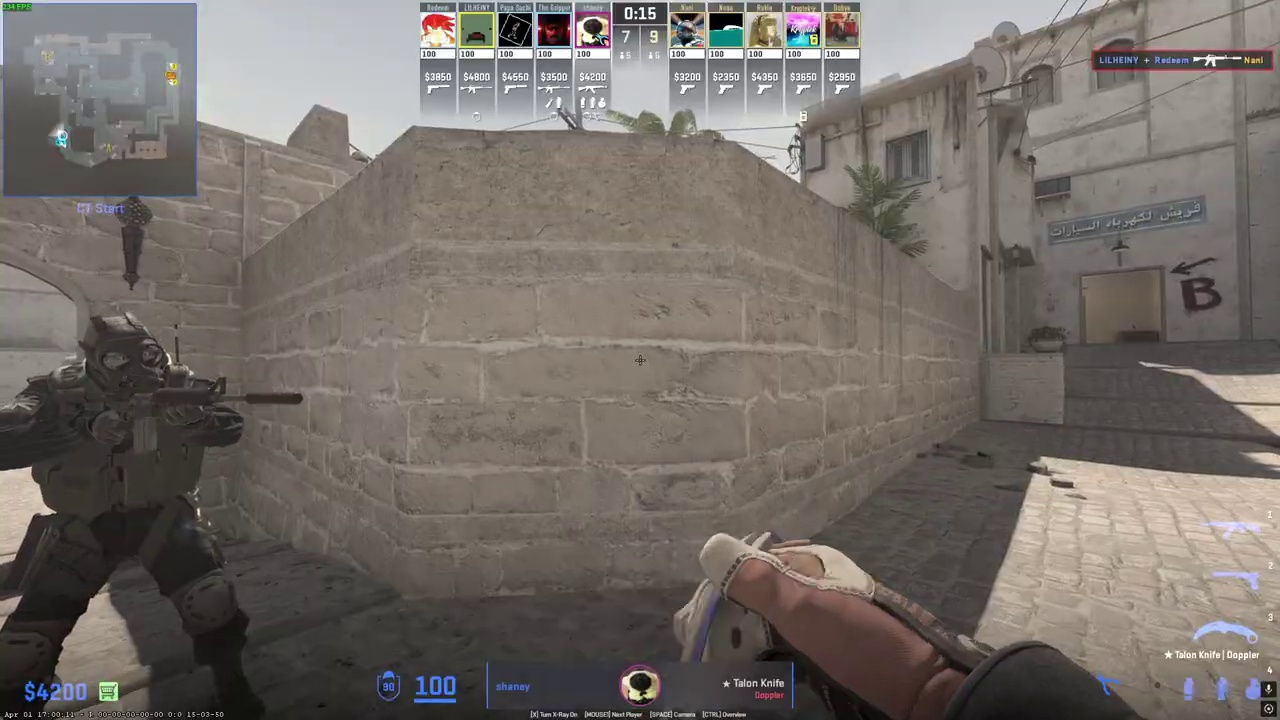CT: (0, 312, 256, 720)
